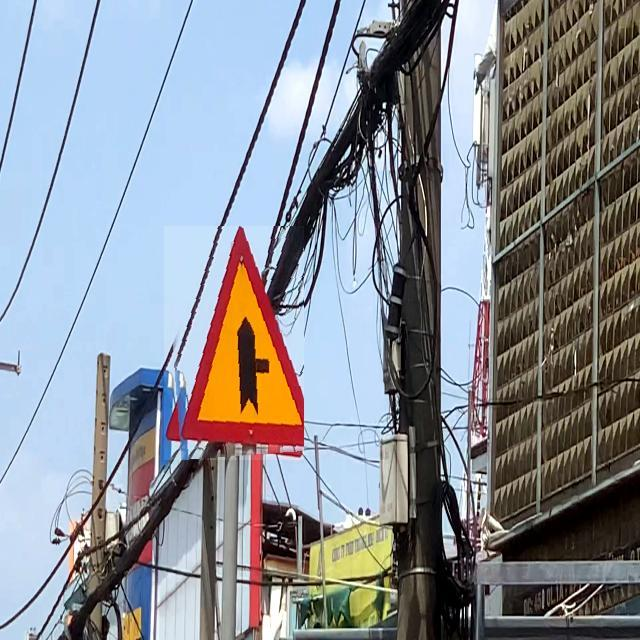W-207b: (164, 226, 304, 460)
